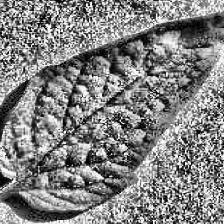leaf mold: (0, 1, 224, 181)
